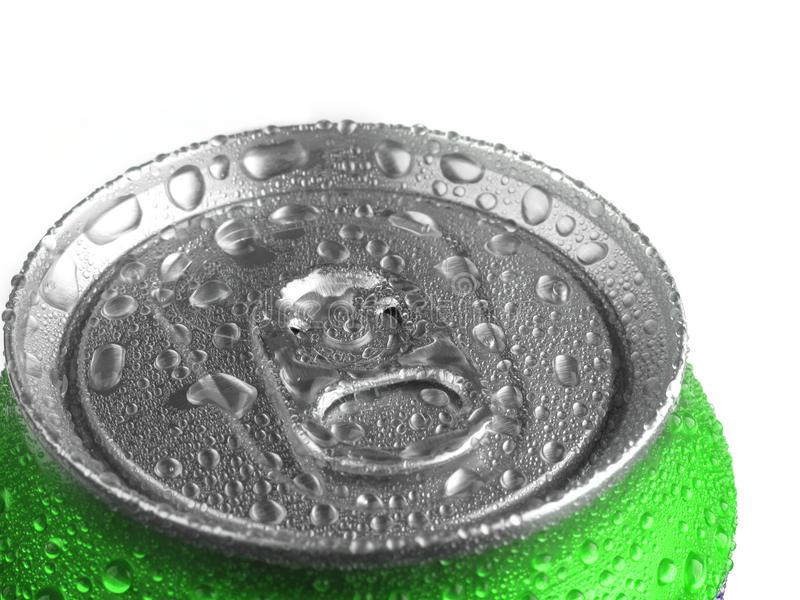can: (2, 122, 753, 597)
